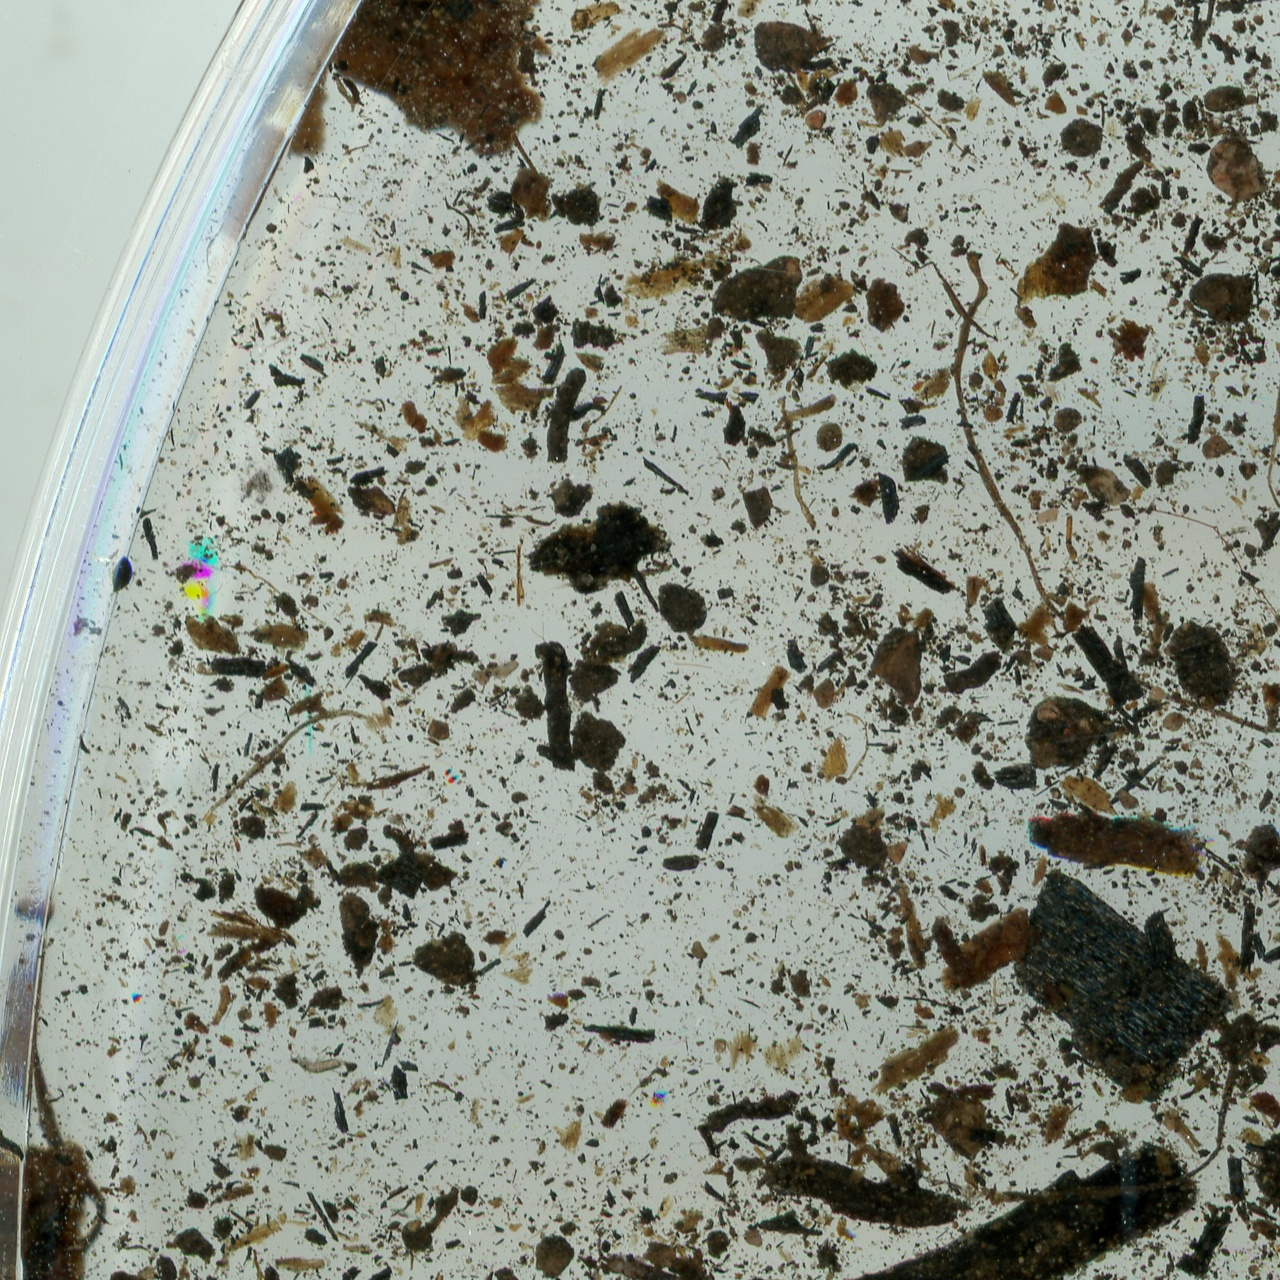arthropod: (581, 1227, 686, 1280), (469, 655, 519, 695), (290, 1046, 353, 1077)
